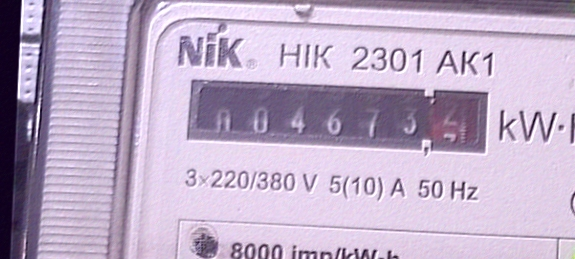0: (212, 104, 233, 135), (250, 104, 269, 136)
2: (439, 97, 461, 129)
3: (400, 104, 418, 139)
4: (288, 102, 307, 137)
6: (322, 103, 344, 138)
7: (359, 105, 383, 143)
screen: (181, 74, 493, 164)
